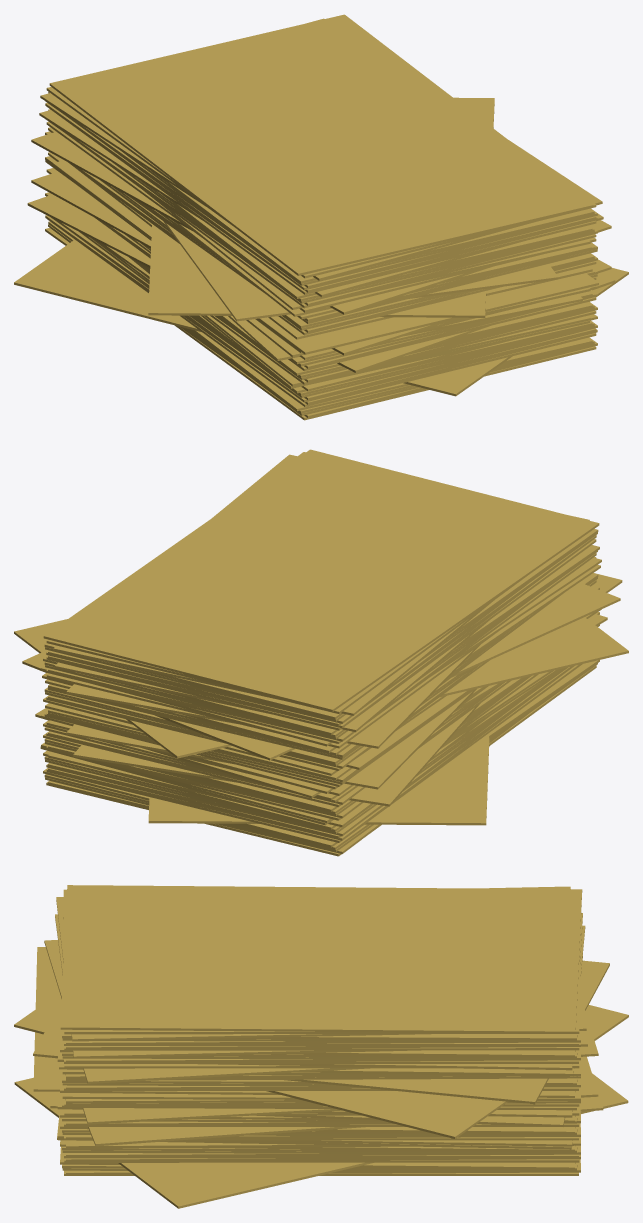
Rendered from Papeper-Gold.fbx.
3 views of the same model, one above another, from view 1: azimuth 30°, elevation 25°; view 2: azimuth 150°, elevation 25°; view 3: azimuth 270°, elevation 25° (orthographic).
Visible parts, largest first — view 1: Plane.005; view 2: Plane.005; view 3: Plane.005.
Part boxes in pixels (x1,y1,x2,y2): Plane.005: [14, 14, 628, 420]; Plane.005: [14, 449, 628, 856]; Plane.005: [14, 885, 628, 1208].
Size of the model in its own units: 99.54 by 29.01 by 110.
